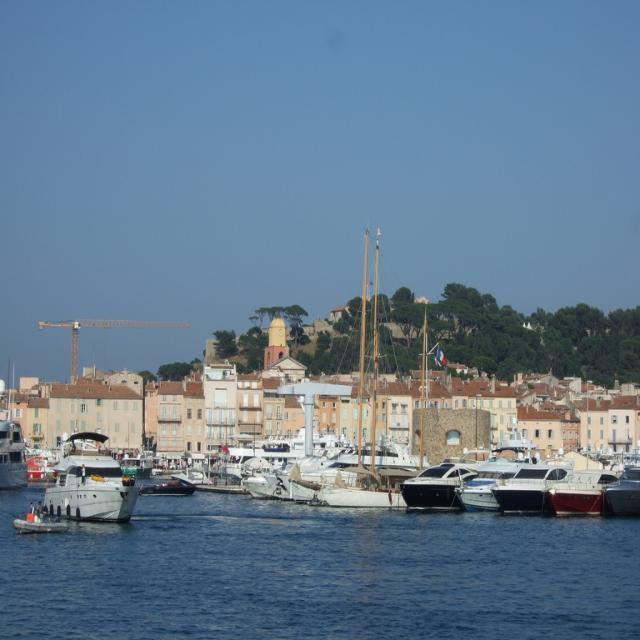Boat: (292, 229, 398, 508), (292, 225, 380, 502), (226, 423, 401, 477), (30, 444, 140, 526), (548, 465, 623, 518), (492, 461, 570, 511), (0, 360, 29, 486), (398, 462, 477, 507), (456, 460, 516, 514), (604, 465, 640, 517), (266, 468, 316, 501), (244, 421, 268, 470), (29, 455, 60, 479), (173, 466, 214, 484), (140, 483, 194, 492), (119, 459, 150, 473), (243, 476, 263, 495), (186, 450, 207, 466), (154, 464, 162, 471)
